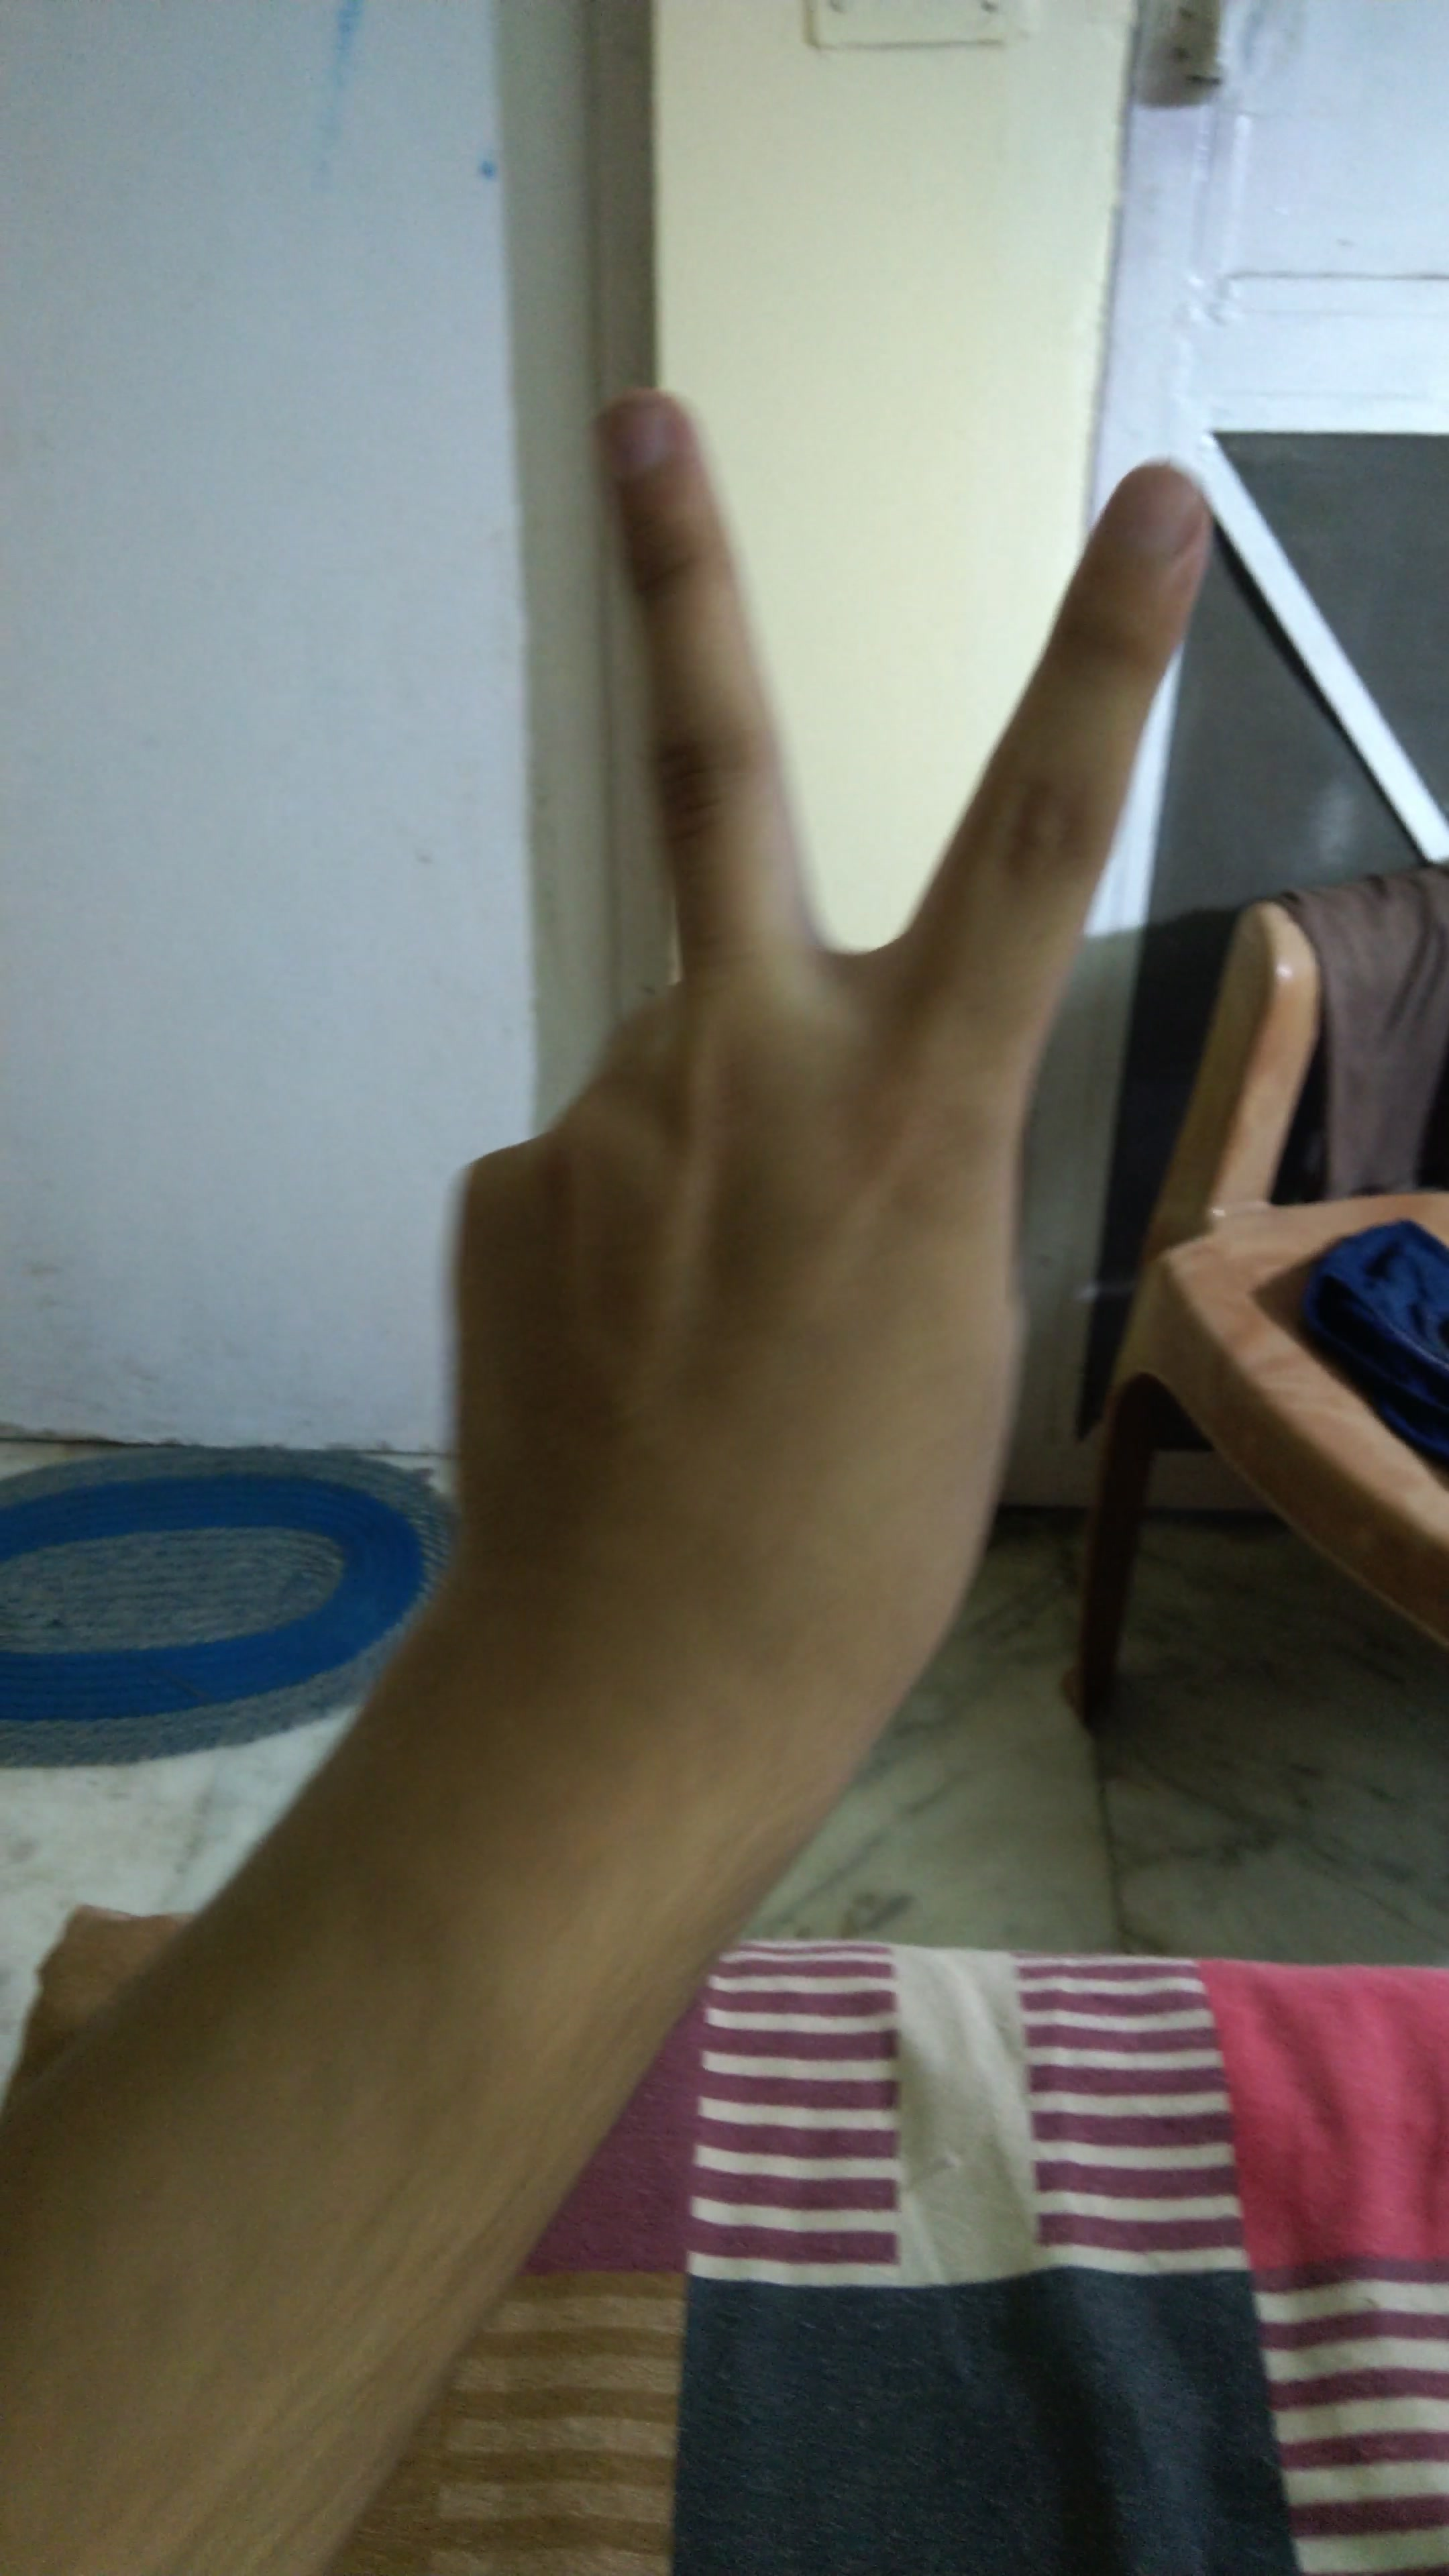hand: (329, 343, 1235, 1789)
